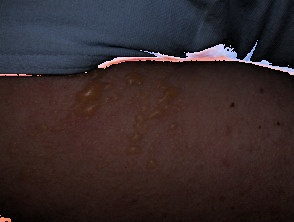SJS-TEN: (33, 41, 200, 186)
